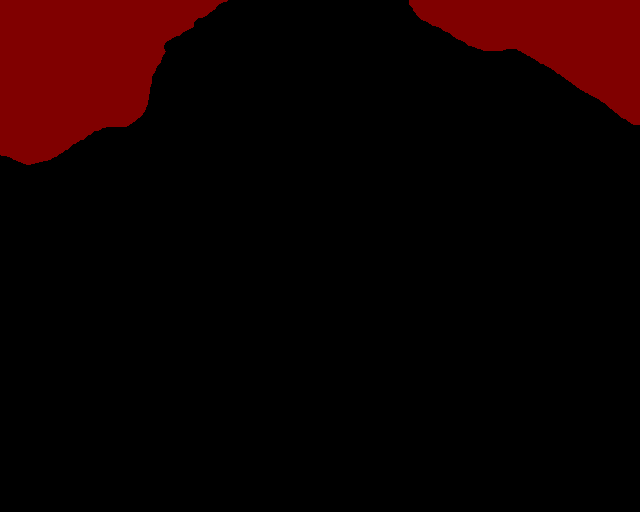Sky: (1, 1, 639, 165)
